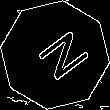N_SW: (23, 24, 87, 86)
